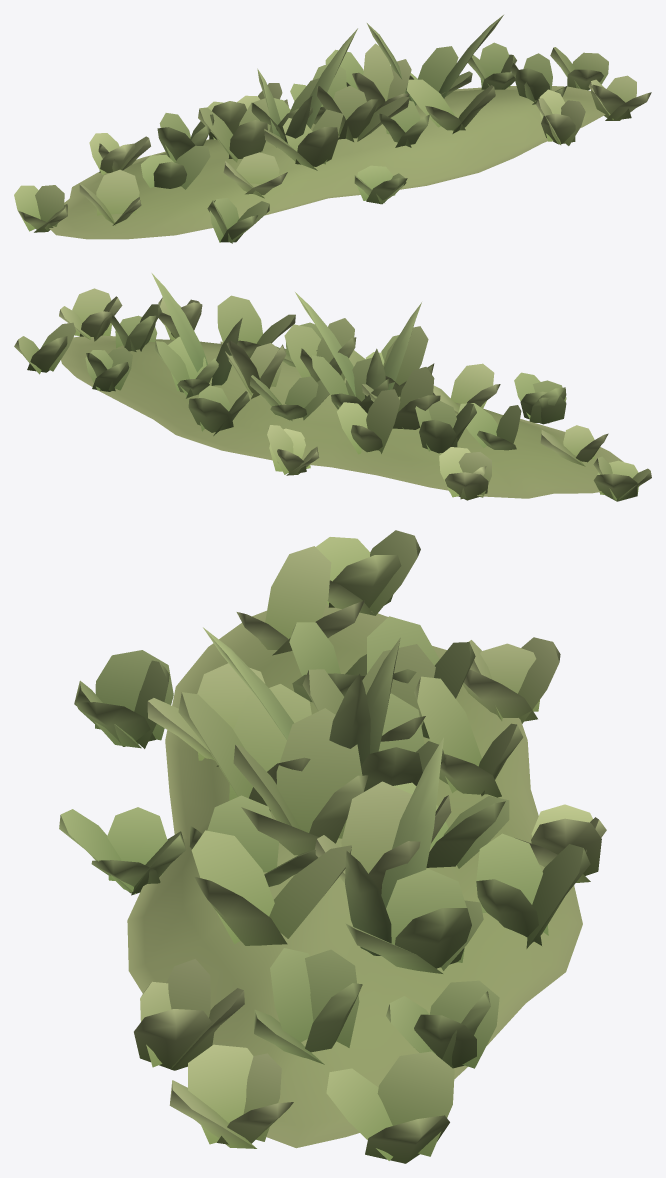
File: patch_strip_c.glb
3 renders of one model, top to bottom at view 1: azimuth 30°, elevation 25°; view 2: azimuth 150°, elevation 25°; view 3: azimuth 270°, elevation 25°, orthographic. The views are drawn at different scales.
Visible parts, largest first — view 1: Patch_Strip_C.001; view 2: Patch_Strip_C.001; view 3: Patch_Strip_C.001.
Part boxes in pixels (box(x1,y1,x2,y2)): Patch_Strip_C.001: box(14, 15, 651, 243); Patch_Strip_C.001: box(14, 273, 651, 501); Patch_Strip_C.001: box(59, 530, 606, 1163).
Size of the model in its own units: 1.36 by 0.2786 by 0.538.
